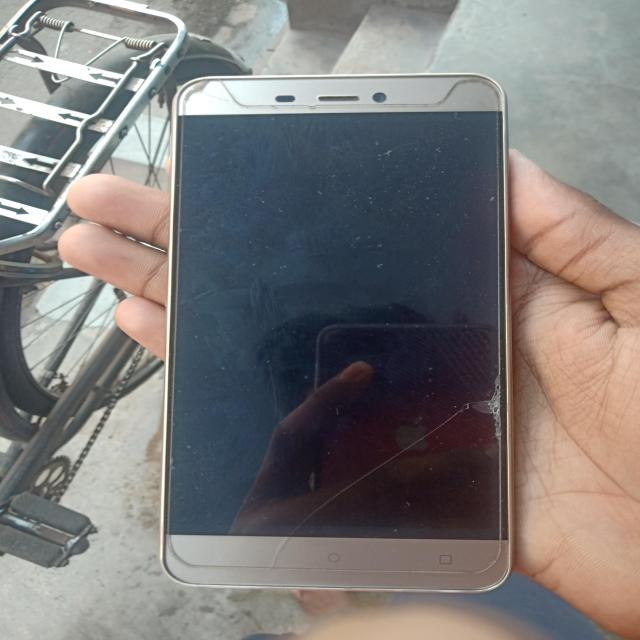mobile: (103, 23, 551, 609)
